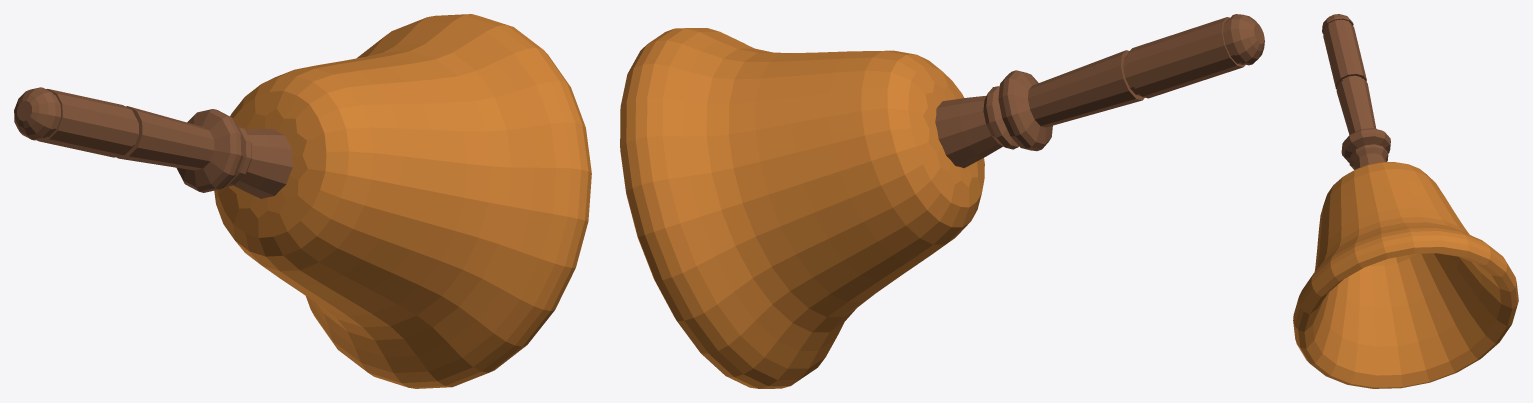
The model's file is bell.fbx.
The picture shows the model from 3 angles, left to right: view 1: azimuth 30°, elevation 25°; view 2: azimuth 150°, elevation 25°; view 3: azimuth 270°, elevation 25°; orthographic projection. The views are drawn at different scales.
Visible parts, largest first — view 1: body, mango; view 2: body, mango; view 3: body, mango.
Part boxes in pixels (bbox=[...]): body: bbox=[214, 14, 591, 388]; mango: bbox=[14, 87, 292, 198]; body: bbox=[620, 28, 984, 388]; mango: bbox=[935, 14, 1264, 168]; body: bbox=[1293, 162, 1518, 388]; mango: bbox=[1322, 14, 1390, 169].
Size of the model in its own units: 296 by 209 by 168.
